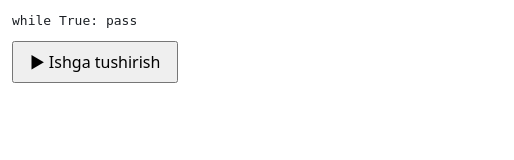
Scenario: RunnableCode (CNT-02, LAB-02) › LAB-06: bajarilayotganda To'xtatish tugmasi muhitni qayta ishga tushiradi
This screenshot has width=514, height=160.
Expected: the button "■ To'xtatish" is not shown
Click the button "▶ Ishga tushirish" at x=95, y=62, box x1=12 y1=41 x2=178 y2=83
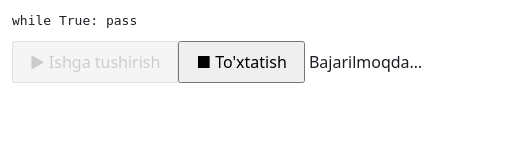
Click the button "■ To'xtatish" at x=242, y=62, box x1=178 y1=41 x2=305 y2=83
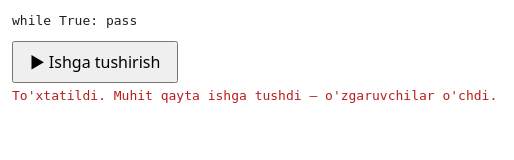
Now the message reads "To'xtatildi. Muhit qayta ishga tushdi — o'zgaruvchilar o'chdi.", box x1=12 y1=88 x2=497 y2=103
Now the button "■ To'xtatish" is gone
Now the button "▶ Ishga tushirish" is enabled, box x1=12 y1=41 x2=178 y2=83
